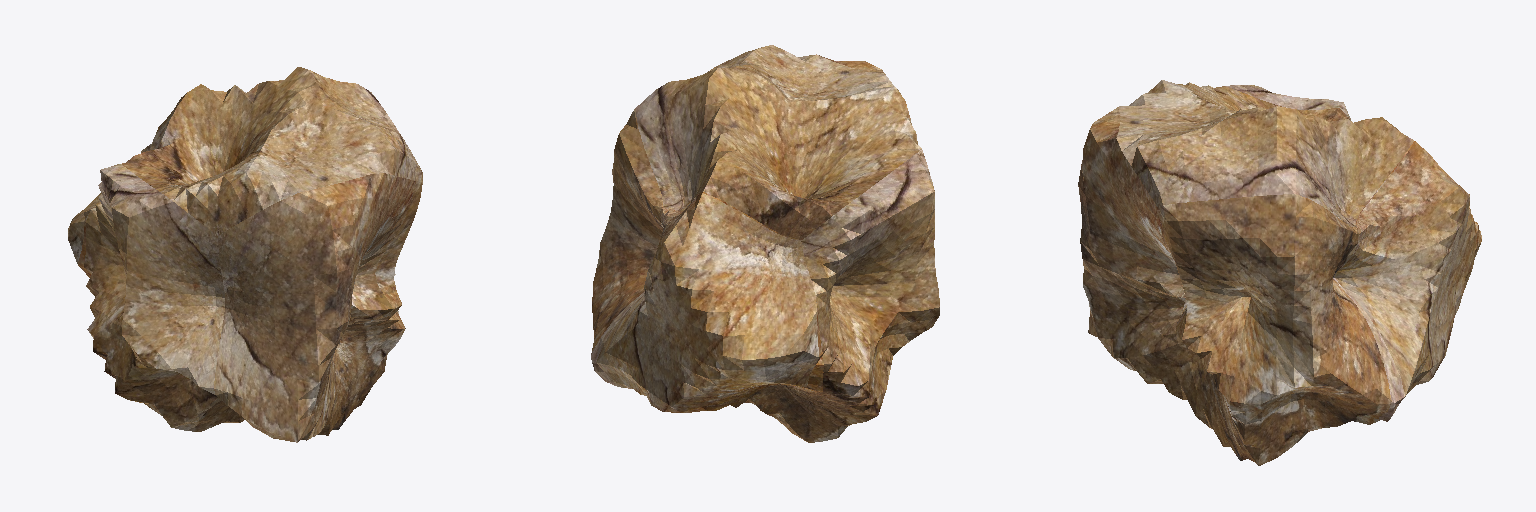
The picture shows the model from 3 angles: view 1: azimuth 30°, elevation 25°; view 2: azimuth 150°, elevation 25°; view 3: azimuth 270°, elevation 25°; orthographic projection.
Parts seen in each view (by area): view 1: Cube; view 2: Cube; view 3: Cube.
Part boxes in pixels (bbox=[...]): Cube: bbox=[68, 67, 422, 442]; Cube: bbox=[591, 45, 939, 442]; Cube: bbox=[1078, 80, 1481, 465].
Size of the model in its own units: 1.98 by 2.13 by 2.23.
1 materials, 1 textured.